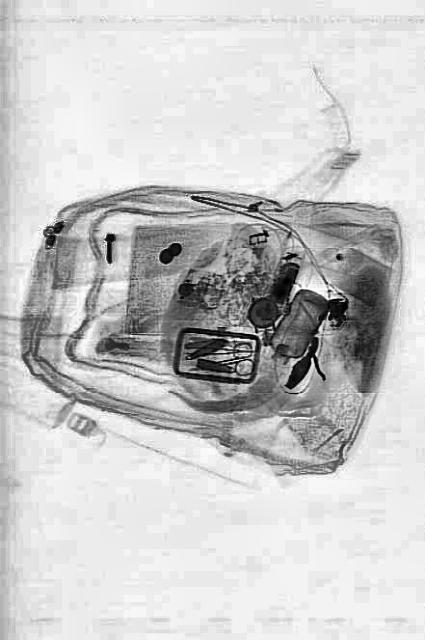Scissors: (199, 338, 253, 382)
